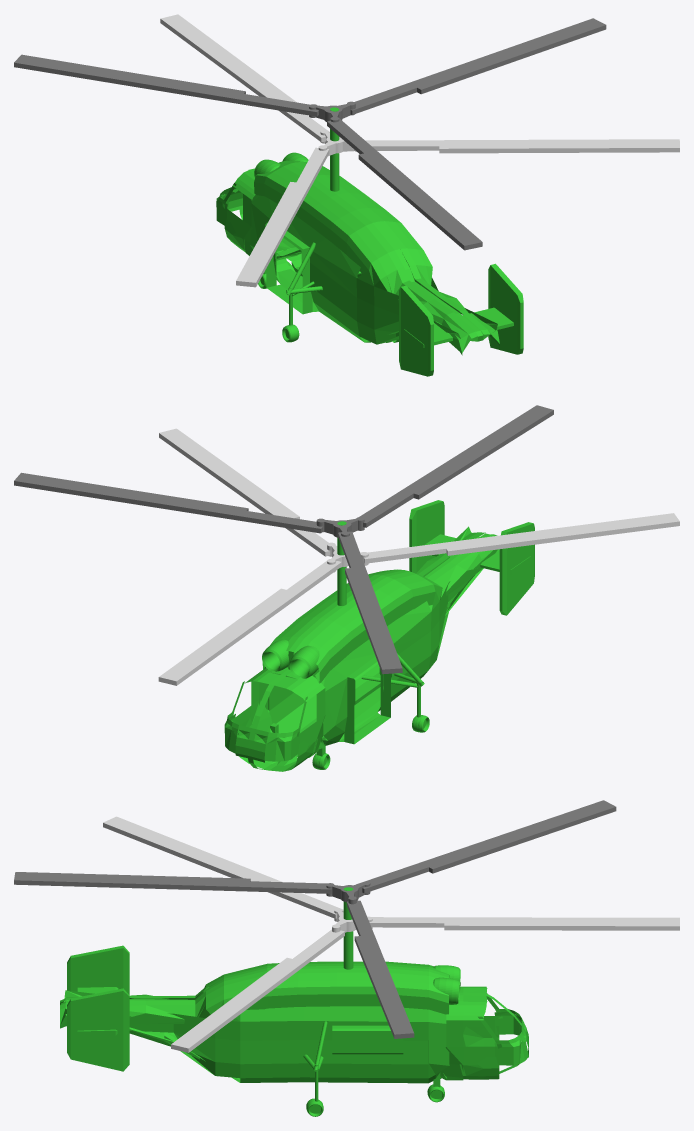
Rendered from KamovLeftCargo.dae.
3 renders of one model, top to bottom at view 1: azimuth 30°, elevation 25°; view 2: azimuth 150°, elevation 25°; view 3: azimuth 270°, elevation 25°, orthographic. The views are drawn at different scales.
Visible parts, largest first — view 1: fuselage, topPropeller, bottomPropeller; view 2: fuselage, topPropeller, bottomPropeller; view 3: fuselage, topPropeller, bottomPropeller.
Part boxes in pixels (x1,y1,x2,y2): fuselage: (216, 107, 523, 376); topPropeller: (14, 18, 606, 250); bottomPropeller: (160, 14, 679, 287); fuselage: (224, 500, 534, 771); topPropeller: (14, 405, 553, 674); bottomPropeller: (158, 428, 679, 685); fuselage: (60, 887, 528, 1116); topPropeller: (14, 800, 616, 1038); bottomPropeller: (103, 816, 679, 1052).
Size of the model in its own units: 10.54 by 12.12 by 4.04.
